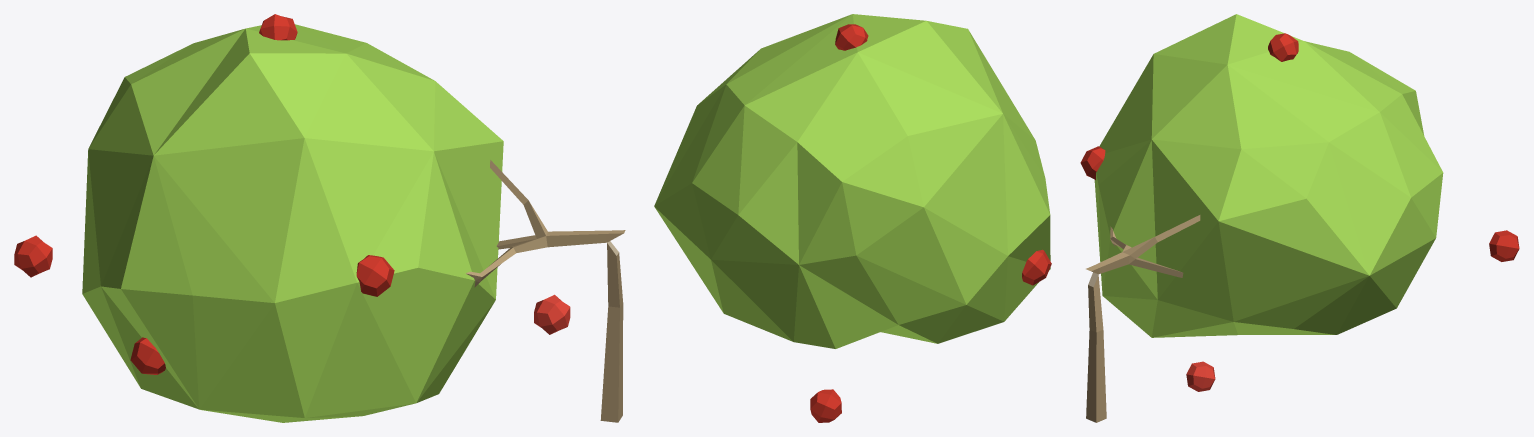
File: Apple_Tree_Apples_crk_s_BT_01.fbx
The picture shows the model from 3 angles, left to right: view 1: azimuth 30°, elevation 25°; view 2: azimuth 150°, elevation 25°; view 3: azimuth 270°, elevation 25°; orthographic projection. The views are drawn at different scales.
Parts seen in each view (by area): view 1: Apple_Tree_Apples_crk_s_BT_01; view 2: Apple_Tree_Apples_crk_s_BT_01; view 3: Apple_Tree_Apples_crk_s_BT_01.
Boxes of the visible parts, x1=… form: Apple_Tree_Apples_crk_s_BT_01: x1=14, y1=14, x2=625, y2=422; Apple_Tree_Apples_crk_s_BT_01: x1=654, y1=14, x2=1051, y2=422; Apple_Tree_Apples_crk_s_BT_01: x1=1080, y1=14, x2=1519, y2=422.
Size of the model in its own units: 233 by 192 by 255.
